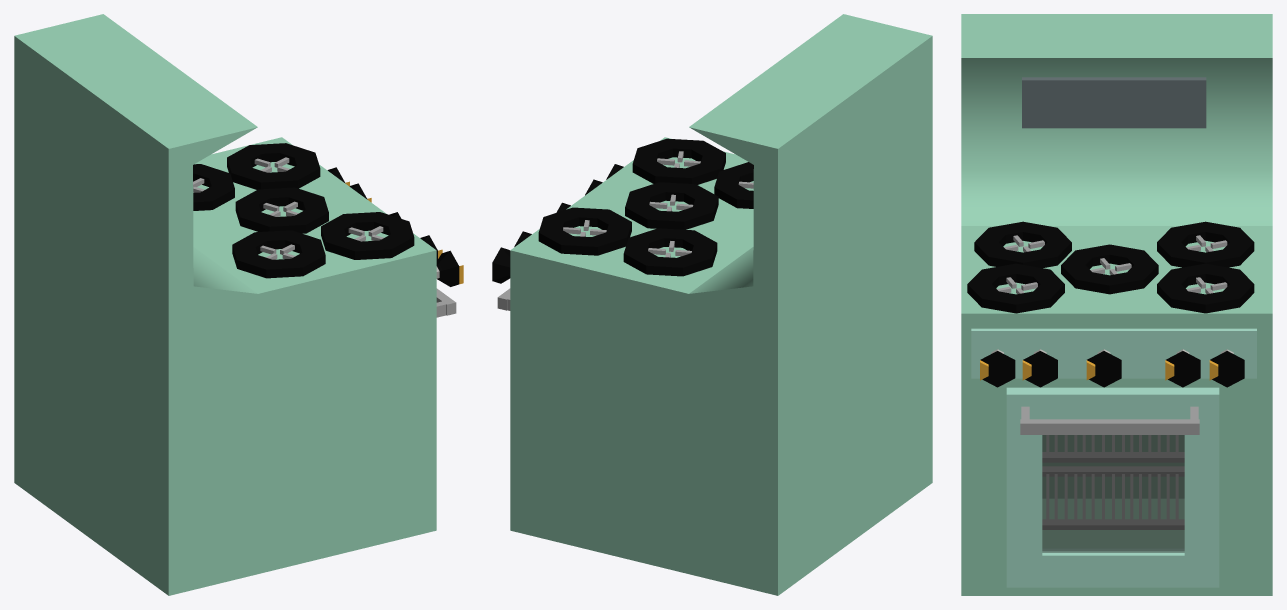
Rendered from Stove_Off.fbx.
The picture shows the model from 3 angles, left to right: view 1: azimuth 30°, elevation 25°; view 2: azimuth 150°, elevation 25°; view 3: azimuth 270°, elevation 25°; orthographic projection.
Parts seen in each view (by area): view 1: Stove_Off1; view 2: Stove_Off1; view 3: Stove_Off1.
Part boxes in pixels (bbox=[...]): Stove_Off1: bbox=[14, 14, 463, 595]; Stove_Off1: bbox=[492, 14, 932, 595]; Stove_Off1: bbox=[961, 14, 1272, 595].
Size of the model in its own units: 118 by 160 by 100.
